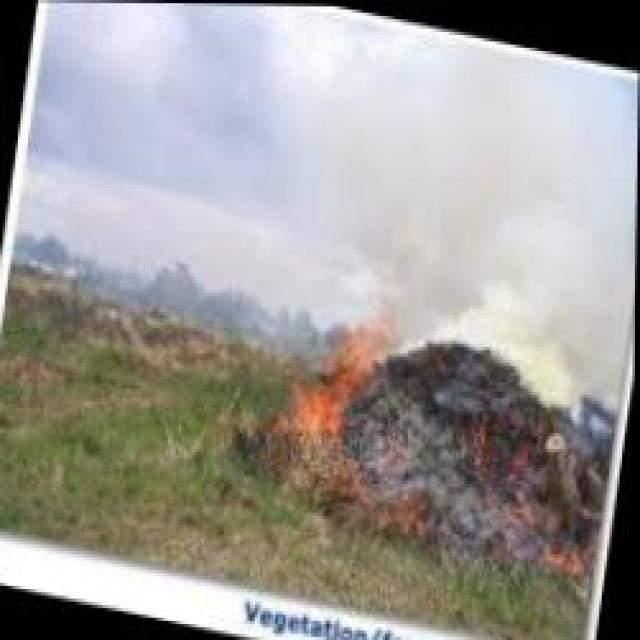Fire: (270, 293, 408, 462)
Smoke: (280, 13, 624, 360)
